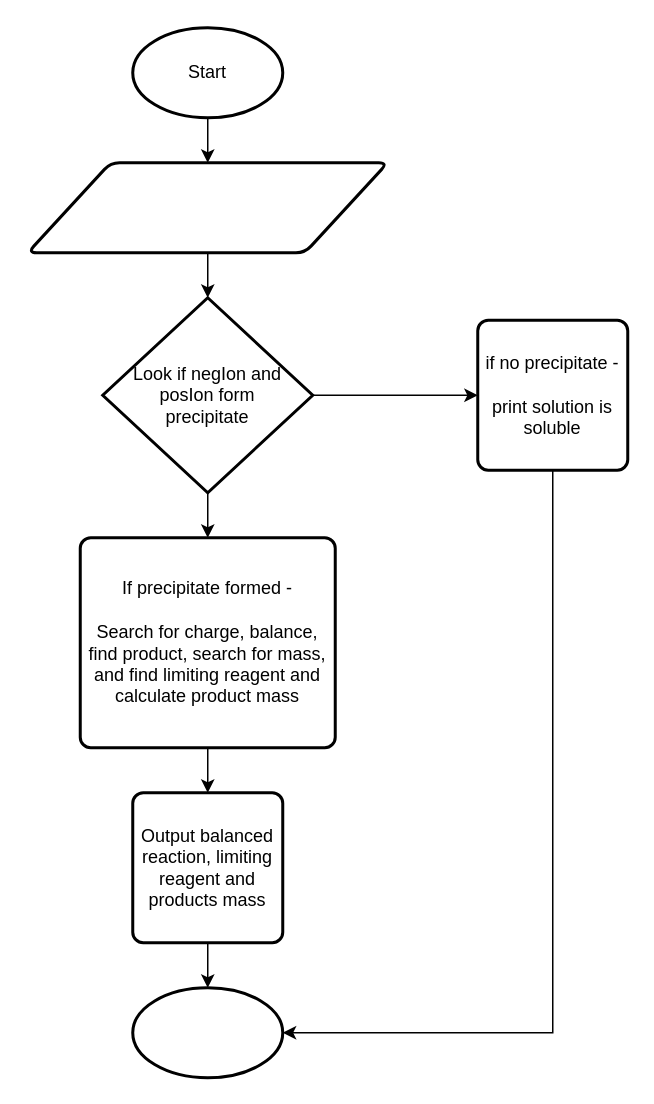
The diagram is 654 pixels wide and 1104 high, and some of its shapes have lost their labels. Here are the shapes that lost their labels. From the top down, the centre of each, then its label:
At (207,207): "Input posIon, posVol, posConc, negIon, negVol, negConc".
At (207,1032): "End".
